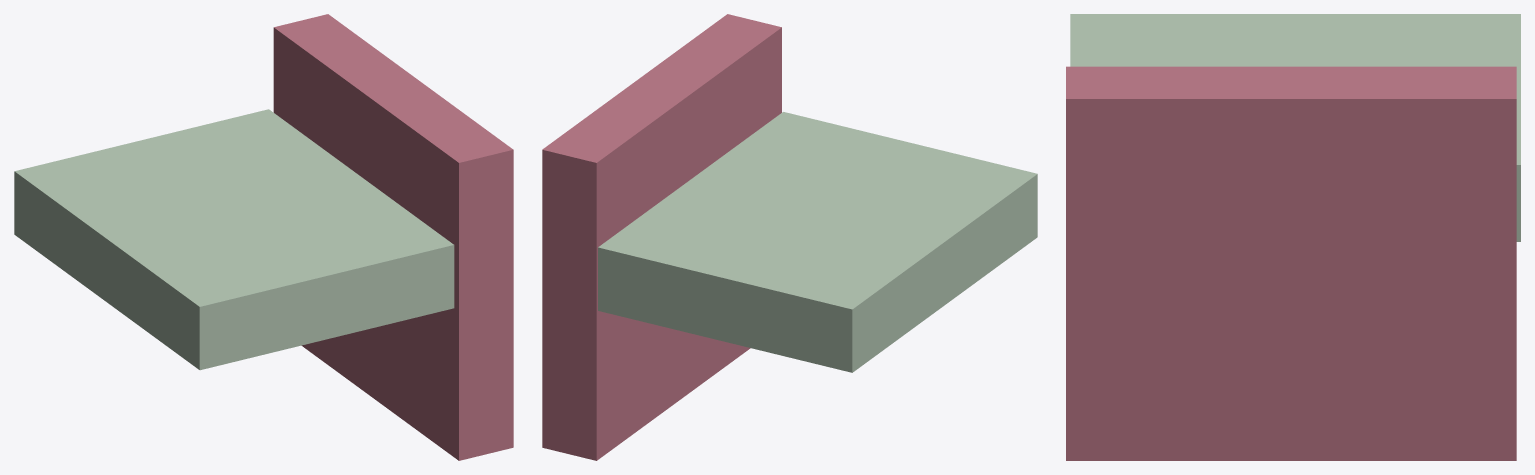
The model's file is 239502_pred.glb.
The picture shows the model from 3 angles, left to right: view 1: azimuth 30°, elevation 25°; view 2: azimuth 150°, elevation 25°; view 3: azimuth 270°, elevation 25°; orthographic projection. The views are drawn at different scales.
Visible parts, largest first — view 1: world; view 2: world; view 3: world.
Part boxes in pixels (x1=…): world: x1=14, y1=14, x2=513, y2=460; world: x1=542, y1=14, x2=1037, y2=460; world: x1=1066, y1=14, x2=1520, y2=460.
Bounding box in the file's own units: 5.15 × 4.7 × 5.35.
